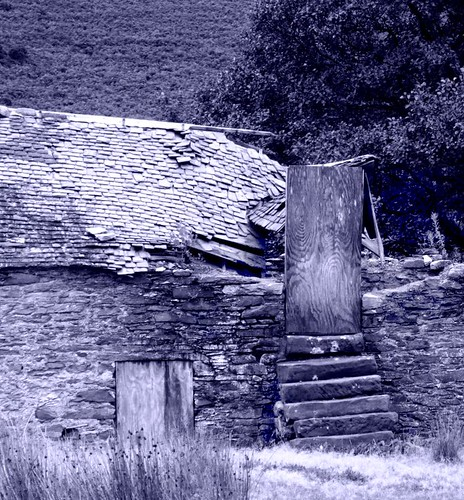building: (5, 106, 453, 444)
door: (283, 164, 366, 335)
tree: (253, 1, 464, 169)
